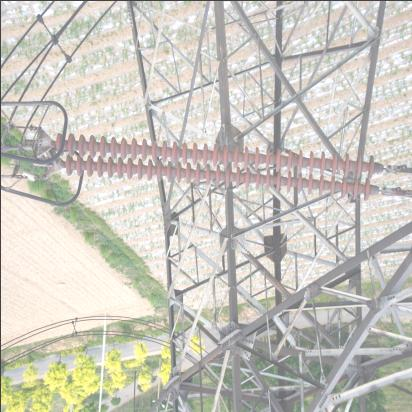insulator: (45, 132, 402, 204)
